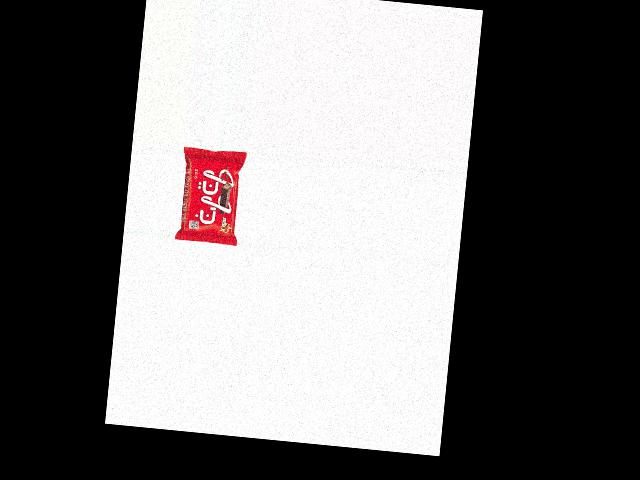chocolate: (173, 146, 246, 245)
